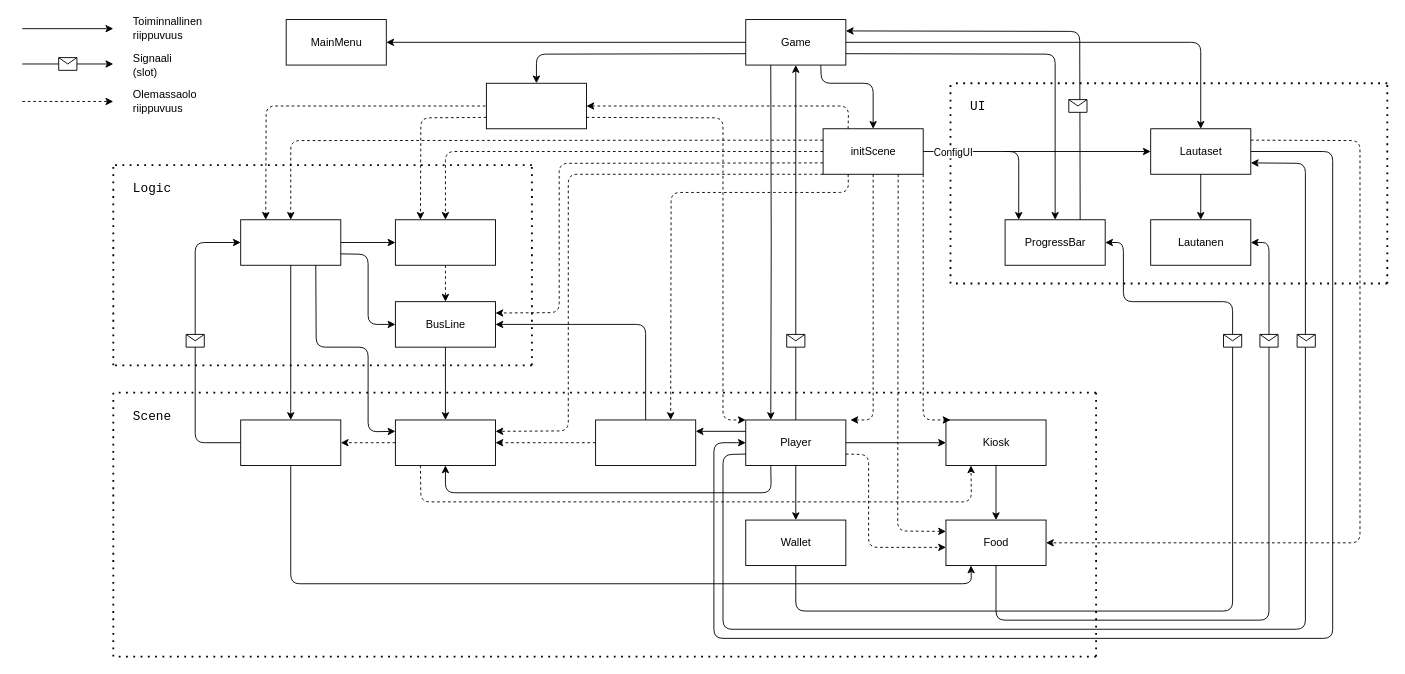
This 1405x674 diagram has some shape labels left out. Each missing label, with the box of its shape:
Bus: (595, 419, 696, 465)
BusLineHandler: (394, 219, 495, 265)
GameObjects: (485, 82, 586, 129)
Stop: (394, 419, 495, 465)
Teekkari: (240, 419, 341, 465)
TeekkariHandler: (240, 219, 341, 265)
